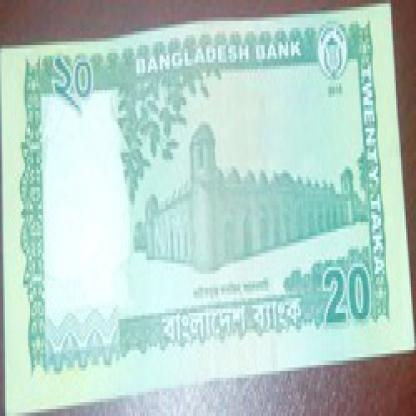Twenty: (316, 246, 380, 336), (50, 48, 116, 118)
